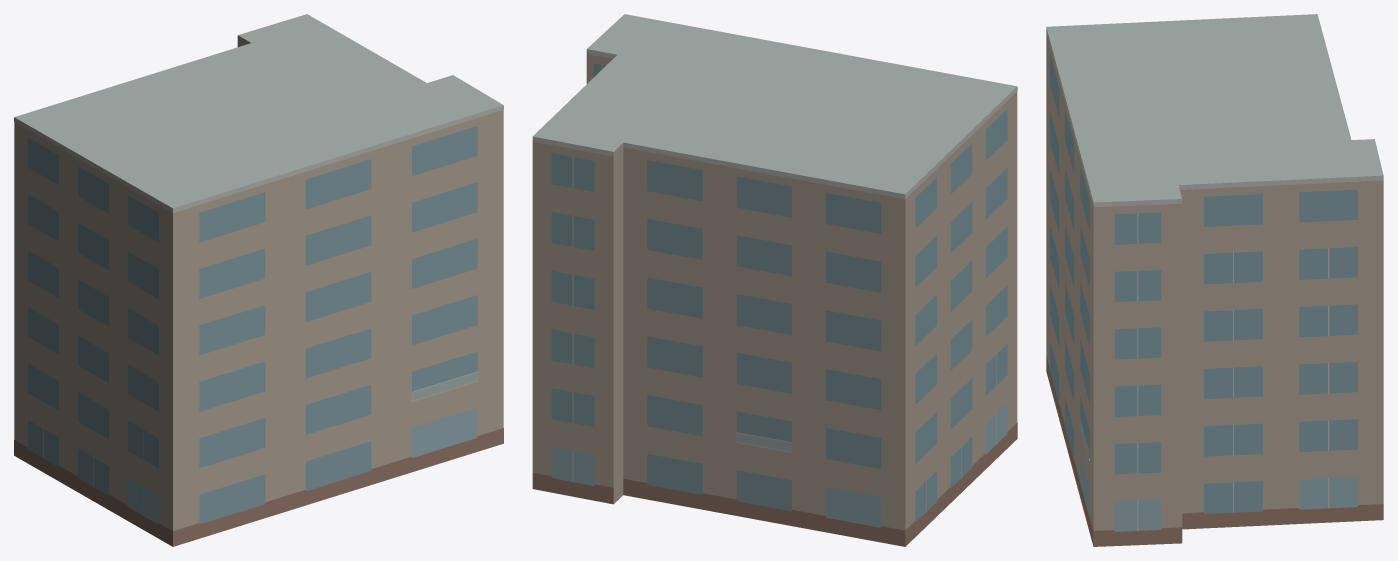
The model's file is survey-upis-32753023.glb.
3 renders of one model, left to right at view 1: azimuth 30°, elevation 25°; view 2: azimuth 150°, elevation 25°; view 3: azimuth 270°, elevation 25°, orthographic. The views are drawn at different scales.
Visible parts, largest first — view 1: survey-upis-32753023.tmp; view 2: survey-upis-32753023.tmp; view 3: survey-upis-32753023.tmp.
Part boxes in pixels (x1,y1,x2,y2): survey-upis-32753023.tmp: (14, 14, 503, 546); survey-upis-32753023.tmp: (532, 14, 1017, 546); survey-upis-32753023.tmp: (1046, 14, 1383, 546).
Bounding box in the file's own units: 20.78 × 17.7 × 15.72.
